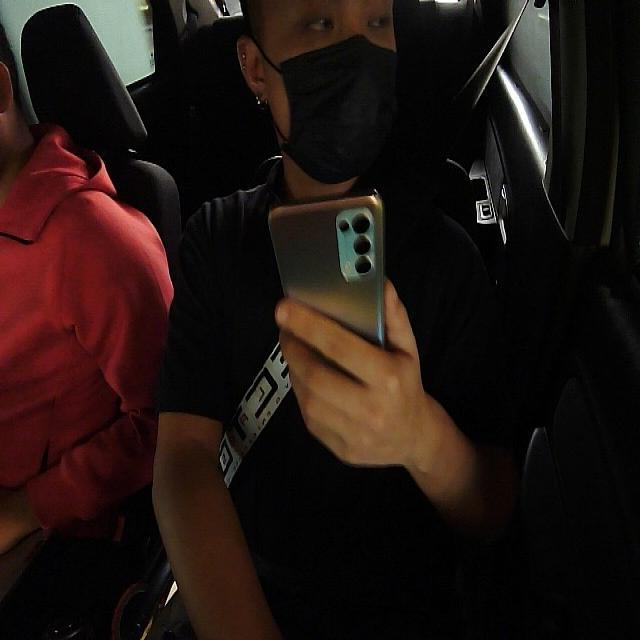phone: (270, 192, 387, 405)
